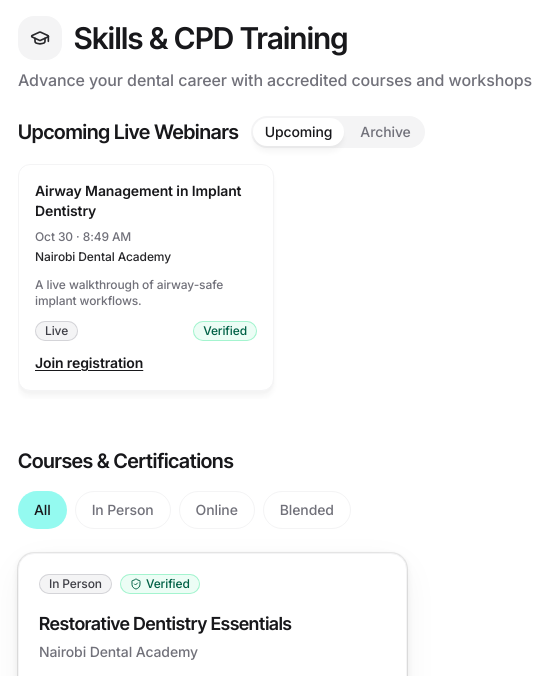
Scenario: Training › toggles the webinar list to the archive
The width and height of the screenshot is (549, 676).
Expected: the text "Airway Management in Implant Dentistry" is shown, [35, 181, 257, 221]
Click the button "Archive". click: [385, 132]
box: [348, 118, 423, 146]
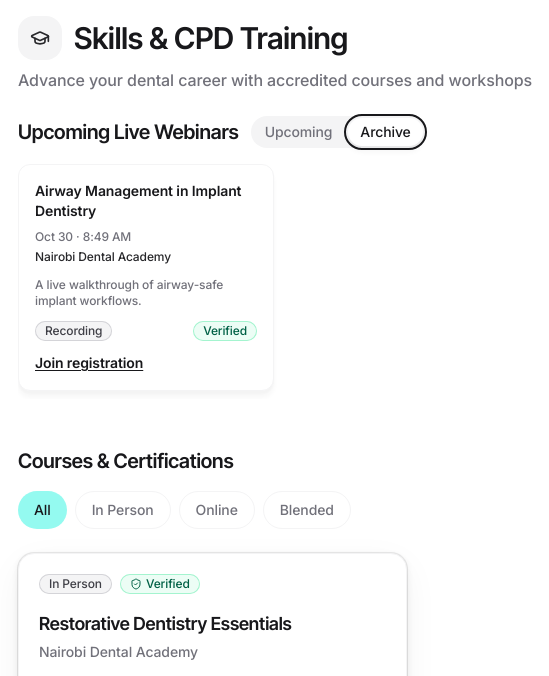
Expected: the text "Recording" is shown, [35, 321, 112, 341]
